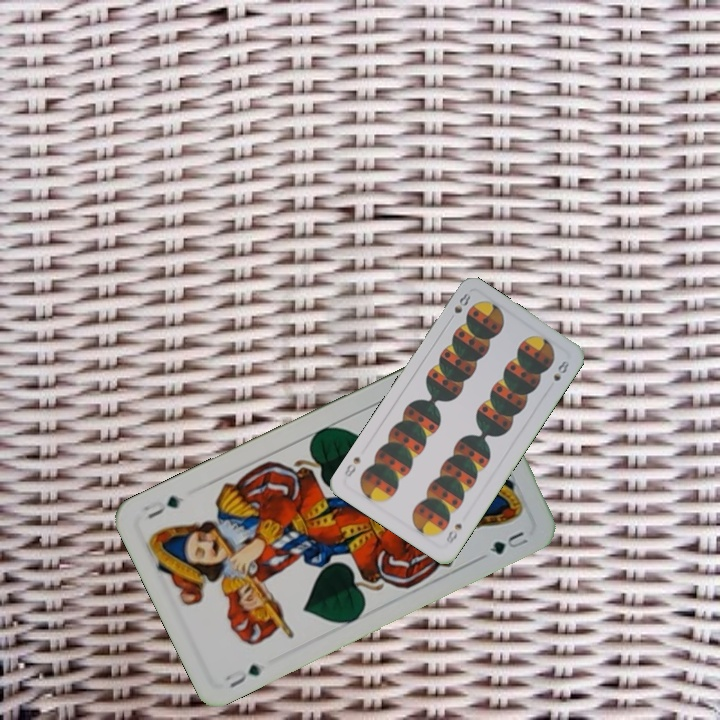GU: (221, 660, 265, 691)
S8: (442, 519, 465, 547), (450, 289, 473, 316)
